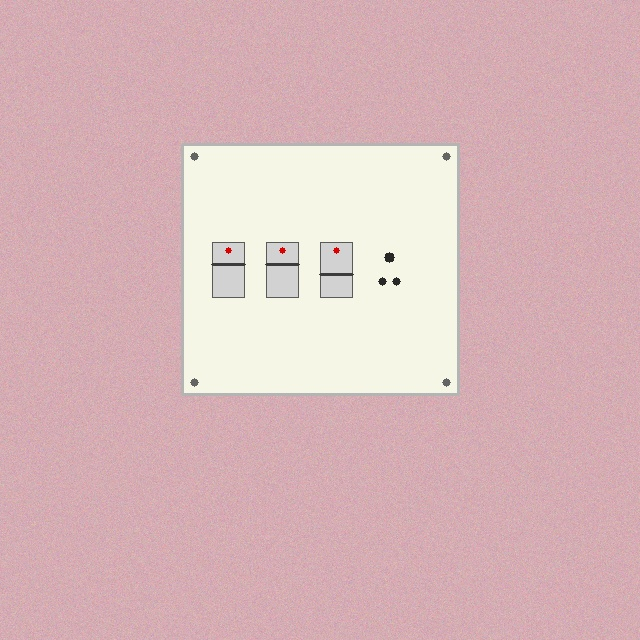switchboard: (182, 144, 458, 394)
